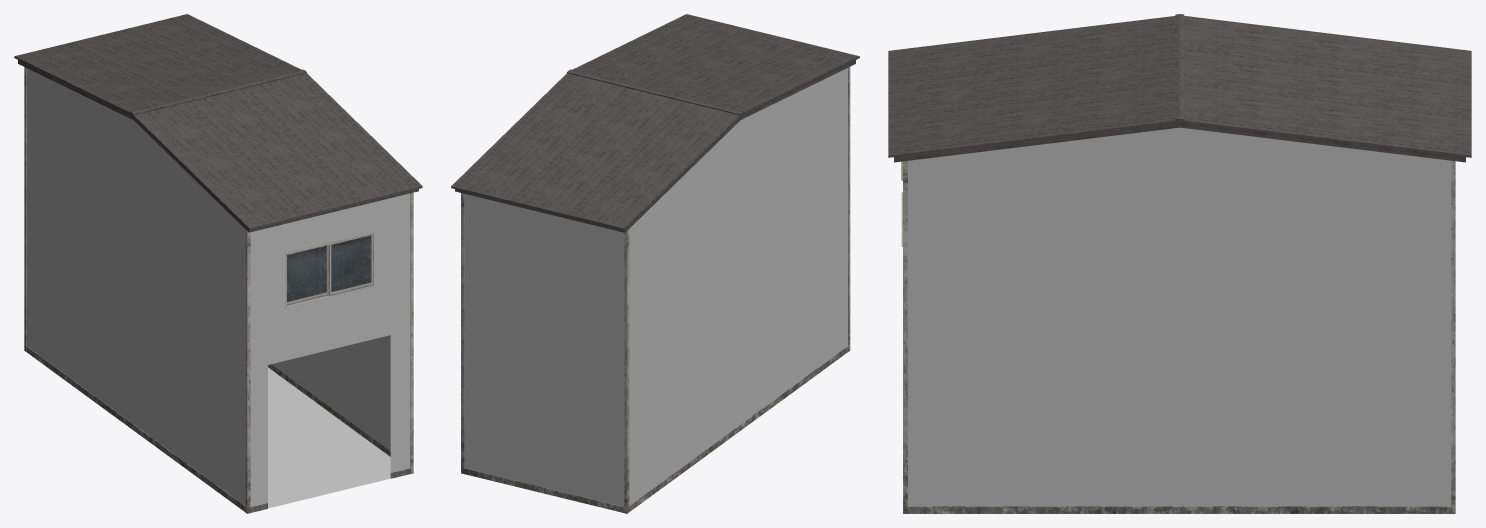
File: House_B.fbx
3 renders of one model, left to right at view 1: azimuth 30°, elevation 25°; view 2: azimuth 150°, elevation 25°; view 3: azimuth 270°, elevation 25°, orthographic. The views are drawn at different scales.
Visible parts, largest first — view 1: House_B; view 2: House_B; view 3: House_B.
Part boxes in pixels (<box>): House_B: <box>14,14,422,513</box>; House_B: <box>451,14,859,513</box>; House_B: <box>888,14,1471,513</box>.
Size of the model in its own units: 315 by 557 by 741.
